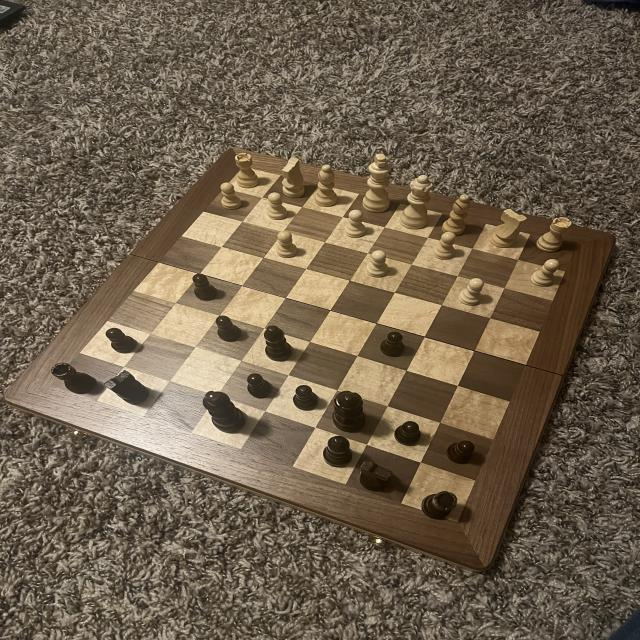bishop: (320, 433, 356, 469), (263, 325, 295, 364)
black-bishop: (201, 388, 250, 436)
black-king: (103, 368, 151, 406), (357, 458, 397, 494)
black-knight: (103, 326, 139, 356), (189, 271, 220, 304), (443, 438, 478, 465), (245, 371, 277, 400), (391, 419, 425, 446), (215, 314, 244, 344), (380, 330, 409, 359), (291, 384, 319, 412)
black-pawn: (328, 388, 372, 435)
black-queen: (48, 360, 100, 396), (418, 491, 460, 522)
black-rook: (312, 163, 342, 210), (441, 194, 472, 236)
white-bishop: (360, 151, 397, 213)
white-king: (488, 206, 528, 252), (276, 155, 308, 199)
white-knight: (529, 258, 561, 290), (273, 230, 303, 260), (432, 232, 460, 262), (343, 208, 370, 239), (459, 276, 485, 308), (363, 250, 392, 278), (220, 181, 246, 212), (265, 190, 290, 222)
white-pawn: (398, 174, 436, 233)
white-queen: (535, 214, 576, 253), (234, 151, 260, 188)
